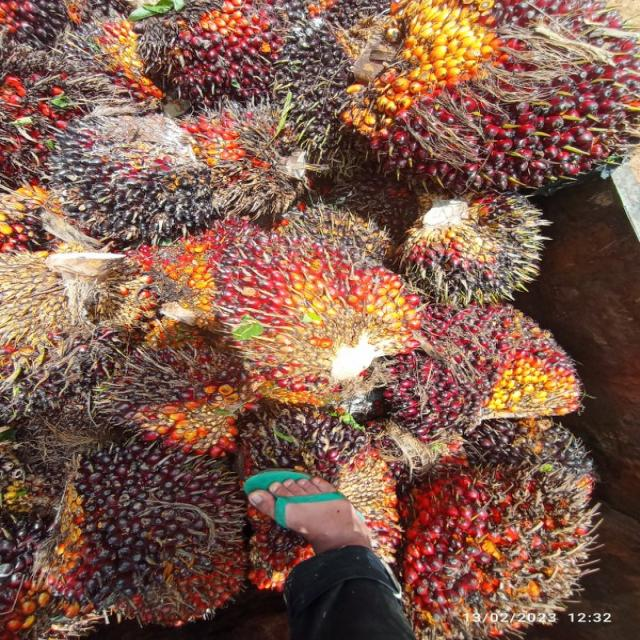fraksi 00: (43, 435, 243, 620), (43, 96, 247, 240), (402, 184, 572, 313), (80, 349, 264, 453), (260, 0, 368, 132)
fraksi 1: (378, 290, 593, 432), (110, 0, 301, 100)
fraksi 3: (329, 0, 640, 197), (207, 205, 425, 401), (402, 447, 619, 631), (132, 201, 252, 323)
fraksi 4: (132, 560, 248, 626)
